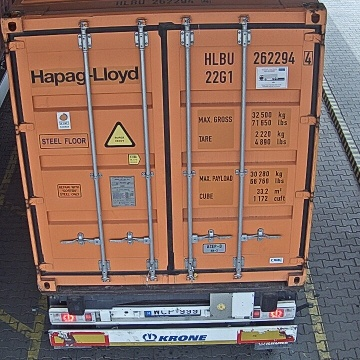serial_id: (205, 51, 313, 64)
